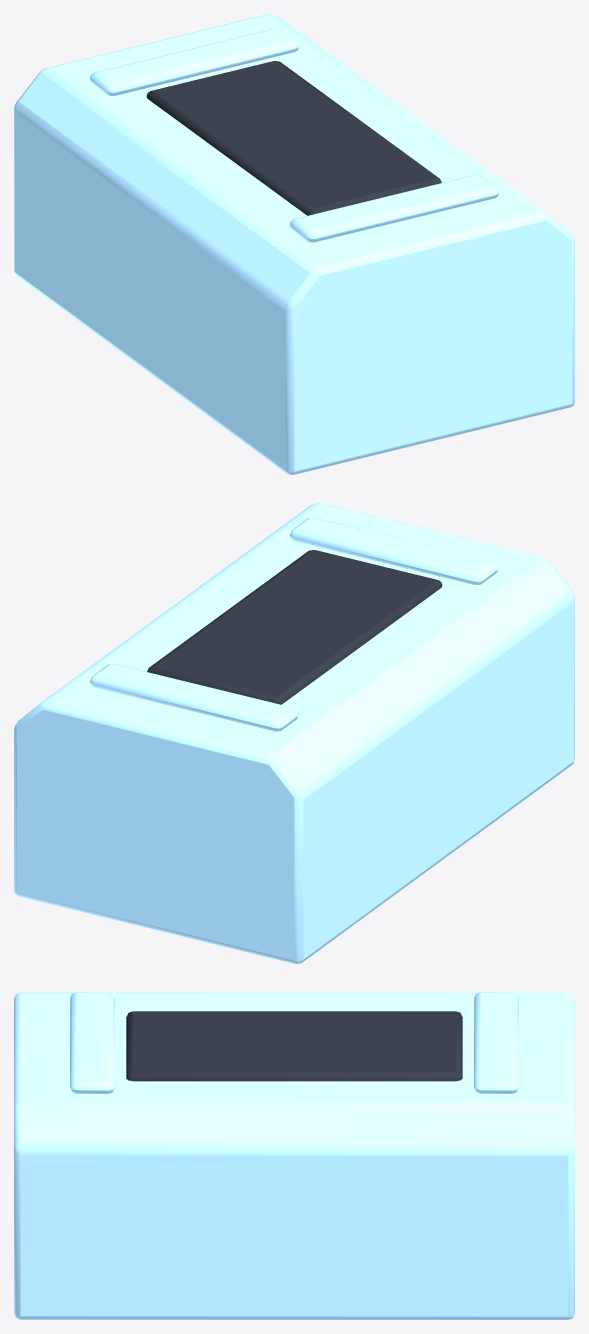
Rendered from ware_druckeis.fbx.
3 renders of one model, top to bottom at view 1: azimuth 30°, elevation 25°; view 2: azimuth 150°, elevation 25°; view 3: azimuth 270°, elevation 25°, orthographic.
Visible parts, largest first — view 1: ware_druckeis_Koerper; view 2: ware_druckeis_Koerper; view 3: ware_druckeis_Koerper.
Part boxes in pixels (x1=…): ware_druckeis_Koerper: x1=14, y1=14, x2=574, y2=474; ware_druckeis_Koerper: x1=14, y1=503, x2=574, y2=963; ware_druckeis_Koerper: x1=14, y1=992, x2=574, y2=1319.
Size of the model in its own units: 0.3 by 0.211 by 0.5.
